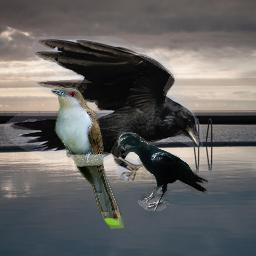Crow: (4, 36, 203, 181), (117, 132, 208, 211)
Cuckoo: (51, 87, 124, 229)
